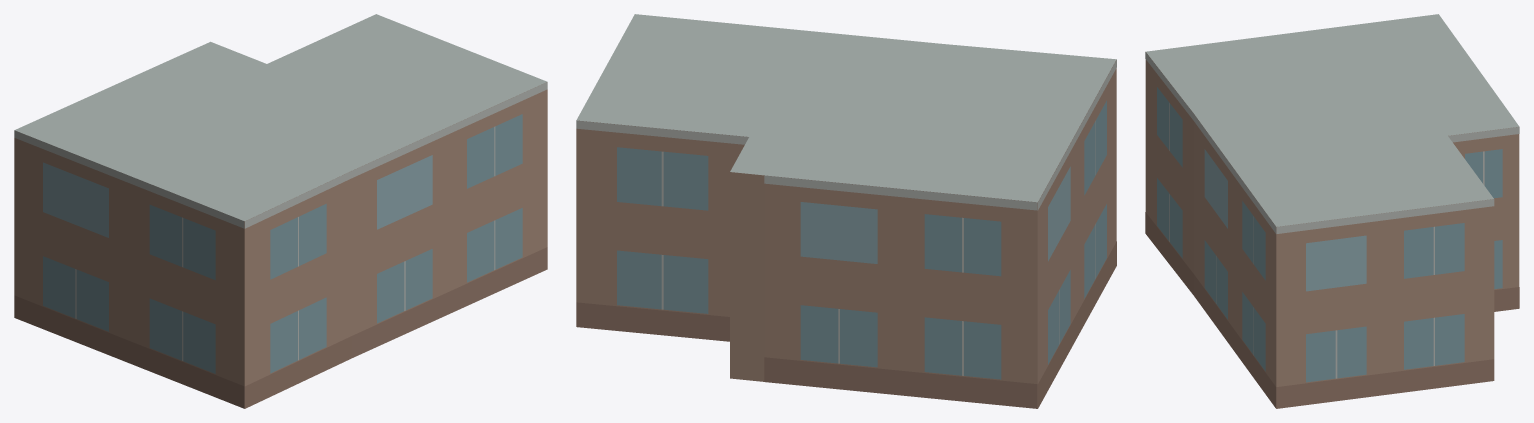
File: survey-upis-32831334.glb
3 renders of one model, left to right at view 1: azimuth 30°, elevation 25°; view 2: azimuth 150°, elevation 25°; view 3: azimuth 270°, elevation 25°, orthographic. The views are drawn at different scales.
Visible parts, largest first — view 1: survey-upis-32831334.tmp; view 2: survey-upis-32831334.tmp; view 3: survey-upis-32831334.tmp.
Boxes of the visible parts, bbox=[...] form: survey-upis-32831334.tmp: bbox=[14, 14, 547, 408]; survey-upis-32831334.tmp: bbox=[576, 14, 1116, 408]; survey-upis-32831334.tmp: bbox=[1145, 14, 1519, 408].
Size of the model in its own units: 15.32 by 6.1 by 11.37.
